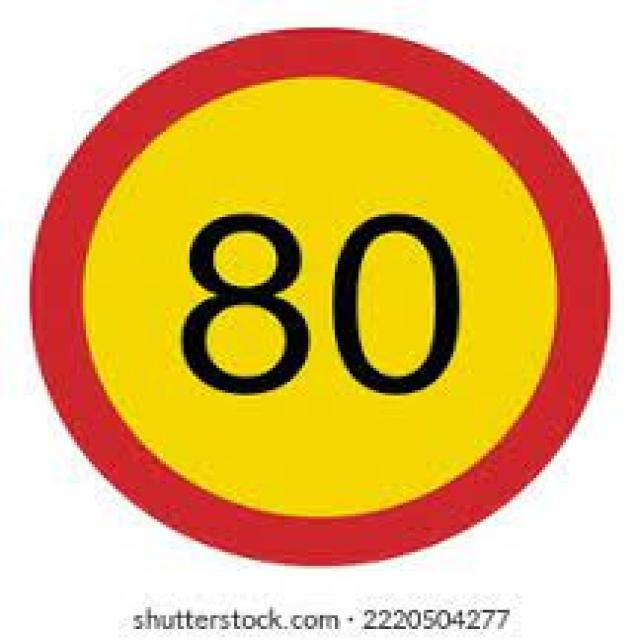SPEED_LIMIT_80: (23, 19, 622, 581)
